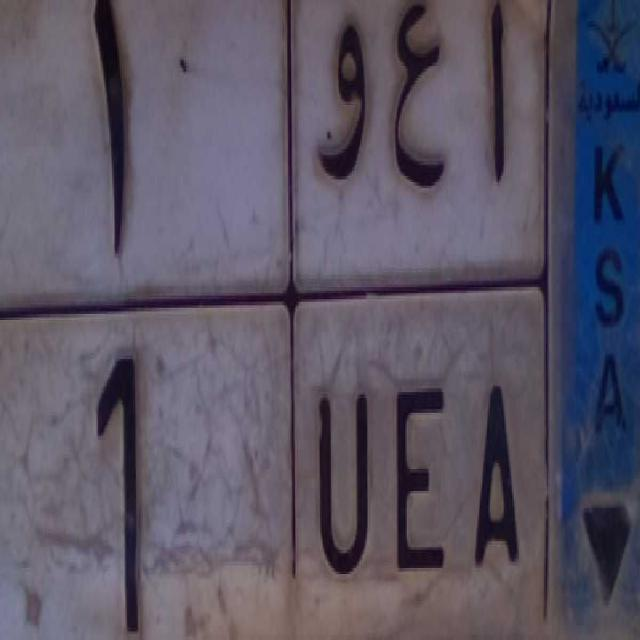license_plate: (0, 293, 552, 640)
